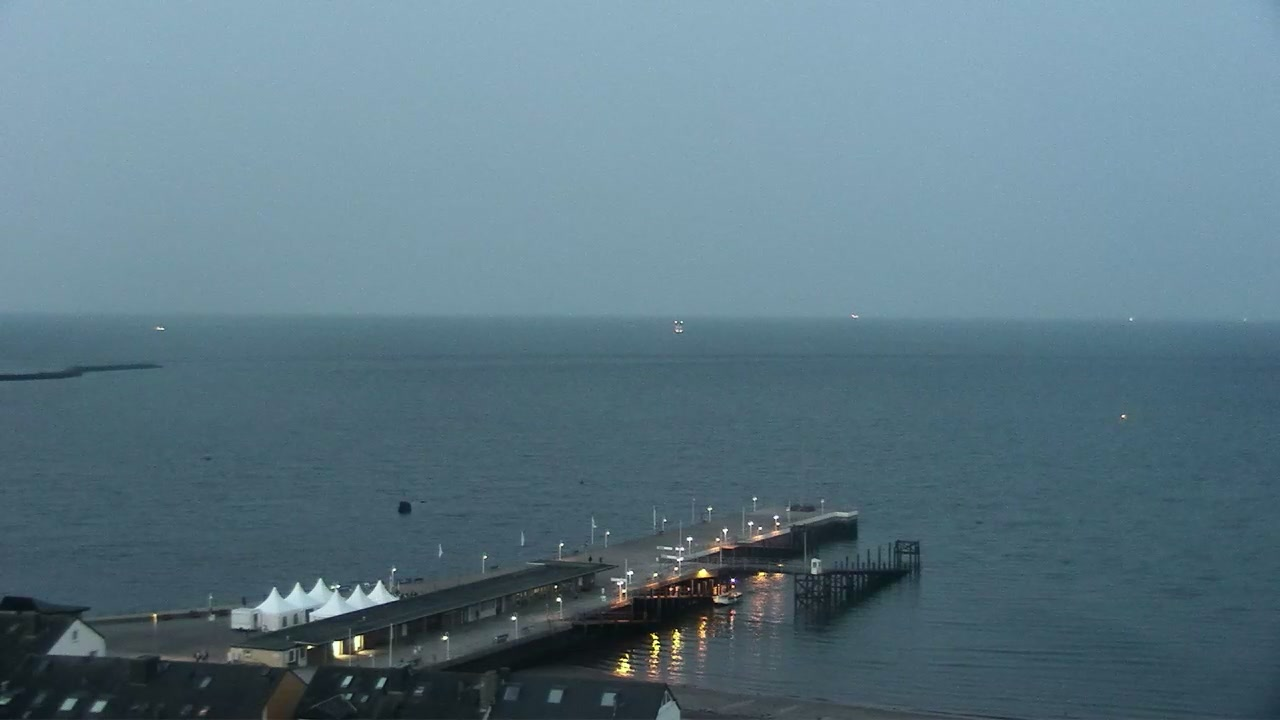human: (207, 611, 217, 623), (588, 554, 593, 564), (598, 556, 603, 564)
sea: (713, 590, 743, 604), (671, 318, 685, 334)
